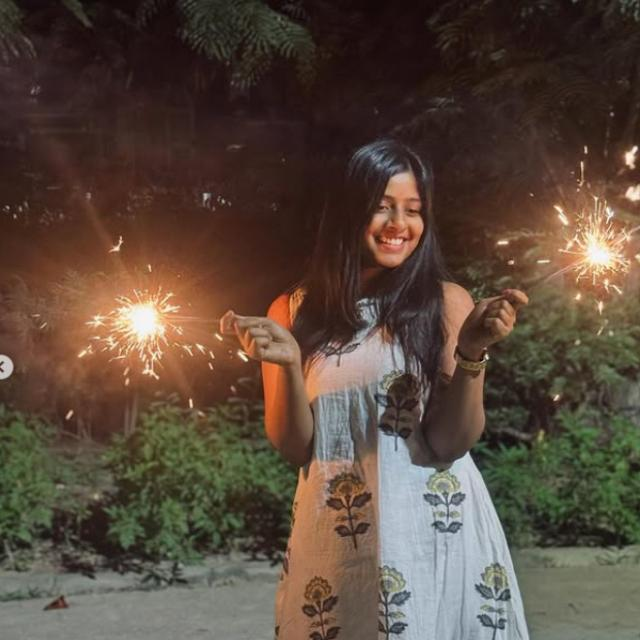fire: (115, 301, 166, 342), (583, 231, 622, 267)
